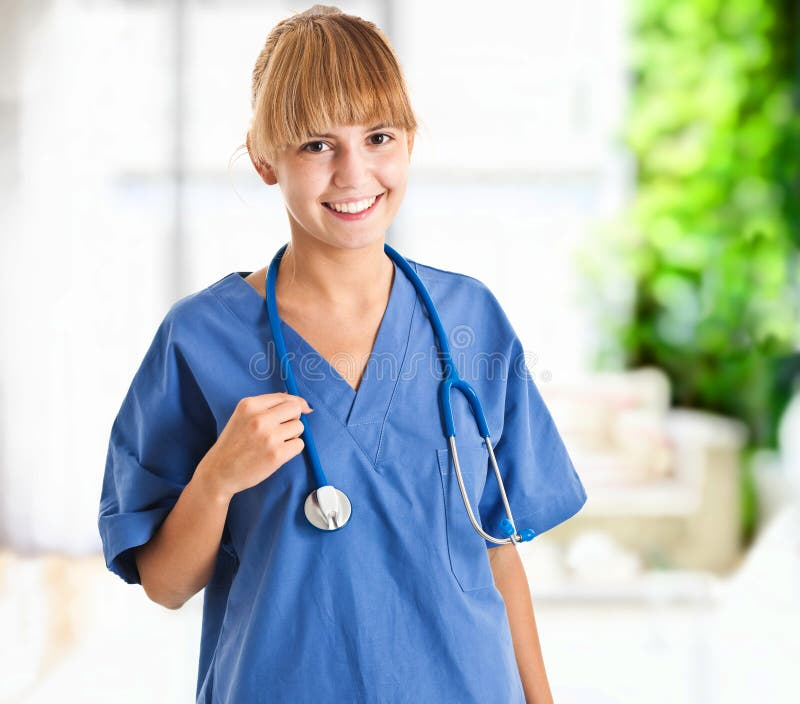Nurse: (94, 3, 601, 645)
